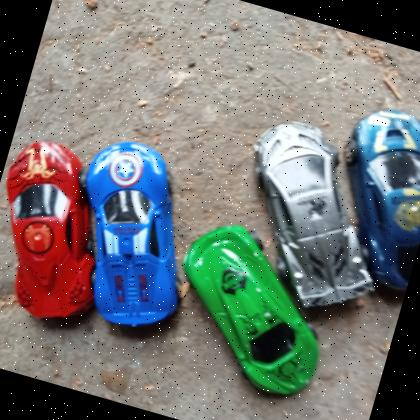Car: (213, 109, 413, 324), (154, 212, 351, 405), (47, 129, 219, 341), (0, 130, 132, 332)
